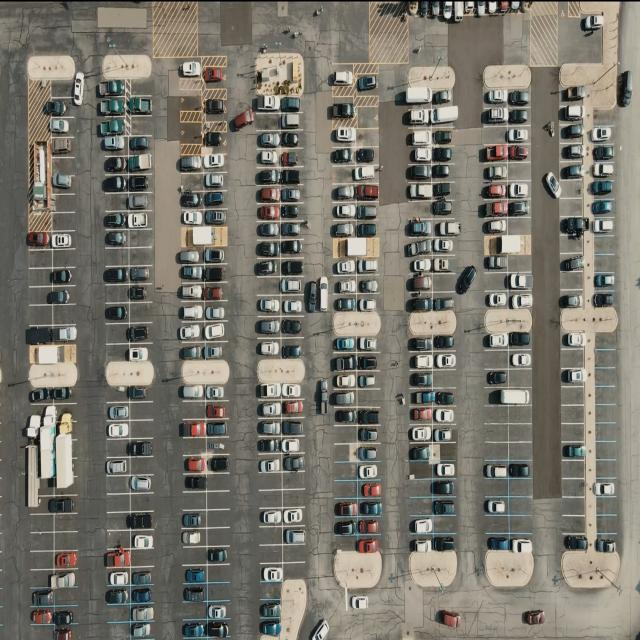space-empty: (28, 305, 54, 326), (506, 479, 534, 498), (106, 322, 130, 344), (481, 126, 507, 146), (129, 229, 155, 249), (256, 276, 282, 296), (278, 545, 305, 564), (356, 106, 379, 128), (54, 305, 78, 326), (559, 178, 583, 199), (105, 283, 130, 303), (560, 478, 585, 498), (28, 248, 53, 268), (561, 405, 586, 425), (484, 350, 509, 370), (182, 546, 207, 566), (410, 460, 436, 479), (255, 112, 281, 131), (180, 400, 206, 419), (180, 439, 207, 457), (129, 117, 153, 137), (508, 162, 532, 182), (561, 348, 585, 368), (434, 272, 458, 292), (559, 198, 583, 218), (179, 124, 203, 144), (593, 235, 617, 255), (106, 529, 130, 549), (55, 530, 79, 550), (30, 513, 54, 533), (130, 400, 154, 420), (206, 490, 230, 510), (261, 526, 285, 546), (52, 78, 76, 98), (28, 211, 52, 231), (104, 438, 129, 457), (561, 459, 586, 478), (105, 493, 130, 512), (130, 419, 155, 438), (561, 386, 586, 405), (182, 491, 207, 510), (509, 368, 534, 387), (333, 480, 358, 499), (561, 496, 586, 515), (28, 325, 53, 344), (104, 192, 130, 210), (30, 552, 56, 570), (408, 496, 434, 514), (508, 424, 534, 442), (128, 78, 154, 96), (407, 202, 433, 220), (485, 407, 511, 425), (130, 303, 152, 324), (53, 210, 76, 230), (31, 568, 54, 588), (334, 424, 357, 444), (595, 385, 618, 405), (208, 527, 231, 547), (104, 248, 128, 267), (54, 587, 78, 606), (560, 235, 584, 254), (559, 271, 583, 290), (30, 531, 54, 550), (508, 216, 532, 235), (260, 471, 284, 490), (332, 165, 356, 184), (106, 512, 130, 531), (130, 247, 154, 266), (334, 461, 358, 480), (561, 423, 585, 442), (208, 510, 232, 529), (594, 349, 618, 368), (509, 443, 533, 462), (281, 488, 305, 507), (130, 456, 154, 475), (484, 442, 508, 461), (594, 332, 618, 351), (510, 496, 534, 515), (485, 516, 510, 534), (483, 273, 508, 291), (130, 550, 155, 568), (106, 604, 131, 622), (408, 479, 433, 497), (508, 406, 533, 424), (595, 366, 617, 386), (207, 563, 230, 582), (55, 514, 78, 533), (355, 129, 378, 148), (261, 489, 284, 508), (595, 405, 618, 424), (208, 583, 231, 602), (53, 249, 77, 267), (106, 476, 130, 494), (130, 493, 154, 511), (434, 516, 458, 534), (52, 159, 76, 177), (178, 173, 202, 191), (28, 269, 52, 287), (510, 516, 534, 534), (182, 602, 206, 620), (179, 94, 203, 112), (434, 371, 458, 389), (508, 254, 532, 272), (105, 344, 129, 362), (562, 516, 586, 534), (590, 108, 614, 126), (484, 423, 508, 441), (262, 546, 286, 564), (594, 255, 616, 274), (52, 193, 75, 211), (105, 384, 128, 402), (281, 471, 304, 489), (357, 388, 380, 406), (334, 444, 357, 462), (206, 473, 229, 491), (596, 423, 617, 442), (596, 459, 617, 478), (596, 442, 617, 461), (262, 583, 284, 601), (596, 516, 618, 534), (108, 623, 132, 639), (30, 625, 54, 640), (595, 498, 616, 515)
space-occupied: (489, 384, 532, 405), (97, 116, 128, 136), (204, 91, 227, 117), (332, 98, 358, 121), (407, 180, 434, 202), (405, 106, 433, 127), (98, 98, 127, 118), (100, 136, 129, 156), (203, 62, 227, 86), (560, 214, 586, 236), (590, 214, 616, 236), (407, 291, 434, 312), (588, 178, 616, 198), (406, 238, 434, 258), (332, 66, 356, 89), (347, 589, 371, 612), (332, 125, 357, 147), (406, 216, 433, 236), (481, 180, 508, 200), (559, 102, 586, 122), (407, 273, 434, 293), (49, 117, 74, 138), (257, 316, 282, 337), (257, 294, 282, 315), (433, 105, 458, 126), (481, 106, 507, 126), (104, 230, 130, 250), (128, 97, 154, 117), (103, 266, 129, 286), (560, 142, 586, 162), (559, 124, 585, 144), (590, 198, 616, 218), (182, 527, 208, 547), (484, 495, 510, 515), (406, 255, 433, 274), (482, 200, 509, 219), (180, 58, 202, 81), (281, 316, 304, 338), (104, 303, 128, 324), (560, 288, 584, 309), (404, 89, 432, 107), (509, 349, 534, 369), (180, 418, 205, 438), (561, 442, 586, 462), (49, 97, 74, 117), (353, 164, 378, 184), (180, 382, 205, 402), (257, 338, 282, 358), (483, 288, 508, 308), (509, 289, 534, 309), (178, 321, 203, 341), (409, 368, 434, 388), (258, 398, 283, 418), (104, 550, 130, 569), (408, 516, 434, 535), (481, 144, 507, 163), (434, 217, 460, 236), (100, 78, 126, 97), (482, 163, 508, 182), (590, 161, 616, 180), (484, 368, 510, 387), (407, 129, 433, 148), (49, 285, 75, 304), (562, 533, 588, 552), (28, 383, 54, 402), (332, 389, 359, 407), (281, 338, 303, 360), (356, 73, 378, 95), (281, 296, 304, 317), (281, 507, 304, 528), (204, 320, 227, 341), (128, 155, 152, 175), (130, 474, 154, 494), (129, 136, 153, 156), (182, 564, 206, 584), (130, 266, 154, 286), (52, 231, 76, 251), (262, 562, 286, 582), (104, 456, 128, 476), (51, 137, 75, 157), (561, 368, 585, 388), (433, 350, 457, 370), (560, 252, 584, 272), (28, 230, 52, 250), (105, 400, 129, 420), (279, 148, 303, 168), (178, 154, 202, 174), (202, 153, 226, 173), (280, 276, 304, 296), (206, 454, 230, 474), (333, 200, 357, 220), (182, 620, 206, 640), (408, 423, 432, 443), (206, 620, 230, 640), (104, 210, 129, 229), (181, 511, 206, 530), (105, 419, 130, 438), (561, 332, 586, 351), (103, 157, 128, 176), (410, 443, 435, 462), (178, 282, 203, 301), (411, 387, 436, 406), (257, 240, 282, 259), (486, 532, 511, 551), (508, 458, 533, 477), (482, 216, 507, 235), (179, 303, 204, 322), (333, 372, 358, 391), (203, 130, 228, 149), (409, 352, 434, 371), (106, 567, 131, 586), (258, 418, 283, 437), (334, 353, 359, 372), (484, 459, 509, 478), (588, 126, 614, 144), (408, 407, 434, 425), (589, 143, 615, 161), (130, 322, 152, 343), (207, 546, 230, 566), (261, 508, 284, 528), (509, 179, 532, 199), (131, 512, 154, 532), (433, 291, 456, 311), (204, 302, 227, 322), (131, 566, 154, 586), (131, 438, 154, 458), (594, 534, 617, 554), (129, 210, 153, 229), (51, 174, 75, 193), (54, 324, 78, 343), (508, 143, 532, 162), (353, 145, 377, 164), (509, 273, 533, 292), (31, 608, 55, 627), (256, 220, 280, 239), (434, 237, 458, 256), (508, 90, 532, 109), (255, 259, 279, 278), (131, 530, 155, 549), (334, 407, 358, 426), (259, 454, 283, 473), (204, 282, 228, 301), (280, 259, 304, 278), (357, 481, 381, 500), (432, 479, 456, 498), (280, 398, 304, 417), (258, 437, 282, 456), (433, 533, 457, 552), (433, 424, 457, 443), (179, 190, 204, 208), (253, 94, 278, 112), (433, 256, 458, 274), (482, 90, 507, 108), (335, 336, 360, 354), (333, 276, 358, 294), (280, 526, 305, 544), (333, 295, 358, 313), (590, 290, 615, 308), (560, 87, 586, 104), (356, 444, 378, 464), (281, 436, 303, 456), (204, 264, 226, 284), (55, 568, 78, 587), (56, 551, 79, 570), (509, 199, 532, 218), (258, 130, 281, 149), (256, 148, 279, 167), (355, 202, 378, 221), (335, 497, 358, 516), (54, 495, 77, 514), (184, 474, 207, 493), (434, 496, 457, 515), (203, 342, 226, 361), (433, 407, 456, 426), (104, 174, 128, 192), (56, 606, 80, 624), (508, 107, 532, 125), (182, 456, 206, 474), (408, 164, 432, 182), (178, 266, 202, 284), (333, 183, 357, 201), (484, 333, 508, 351), (255, 169, 279, 187), (280, 454, 304, 472), (333, 219, 357, 237), (182, 584, 206, 602), (180, 209, 204, 227), (560, 162, 584, 180), (106, 587, 130, 605), (258, 204, 282, 222), (354, 183, 378, 201), (280, 220, 304, 238), (484, 254, 508, 272), (128, 175, 152, 193), (279, 203, 303, 221), (356, 518, 380, 536), (280, 418, 304, 436), (179, 342, 203, 360), (410, 534, 434, 552), (29, 188, 49, 209), (510, 332, 532, 351), (204, 171, 226, 190), (356, 424, 378, 443), (434, 387, 456, 406), (431, 181, 453, 200), (595, 480, 617, 499), (261, 600, 283, 619), (207, 600, 229, 619), (261, 620, 283, 639), (205, 402, 227, 421), (508, 126, 531, 144), (280, 382, 303, 400), (280, 96, 303, 114), (332, 146, 355, 164), (129, 192, 152, 210), (432, 129, 455, 147), (356, 408, 379, 426), (594, 273, 617, 291), (204, 210, 227, 228), (409, 145, 432, 163), (335, 517, 358, 535), (434, 460, 457, 478), (409, 336, 433, 353), (258, 383, 282, 400), (178, 247, 202, 264), (357, 499, 381, 516), (334, 261, 358, 278), (280, 130, 301, 149), (130, 284, 152, 302), (432, 164, 454, 182), (206, 419, 228, 437), (53, 268, 75, 286), (204, 190, 226, 208), (434, 201, 456, 219), (131, 586, 153, 604), (258, 184, 280, 202), (356, 276, 378, 294), (132, 603, 154, 621), (203, 246, 225, 264), (130, 344, 152, 362), (280, 240, 302, 258), (132, 622, 154, 640), (205, 384, 227, 402), (356, 462, 379, 479), (279, 169, 302, 186), (280, 185, 303, 202), (357, 372, 378, 390), (433, 145, 454, 163), (31, 590, 53, 607), (280, 113, 302, 130), (356, 220, 378, 237), (356, 259, 378, 276), (355, 295, 377, 312), (431, 91, 454, 107), (357, 352, 377, 370), (434, 336, 456, 352), (130, 386, 152, 402), (357, 337, 377, 354)
